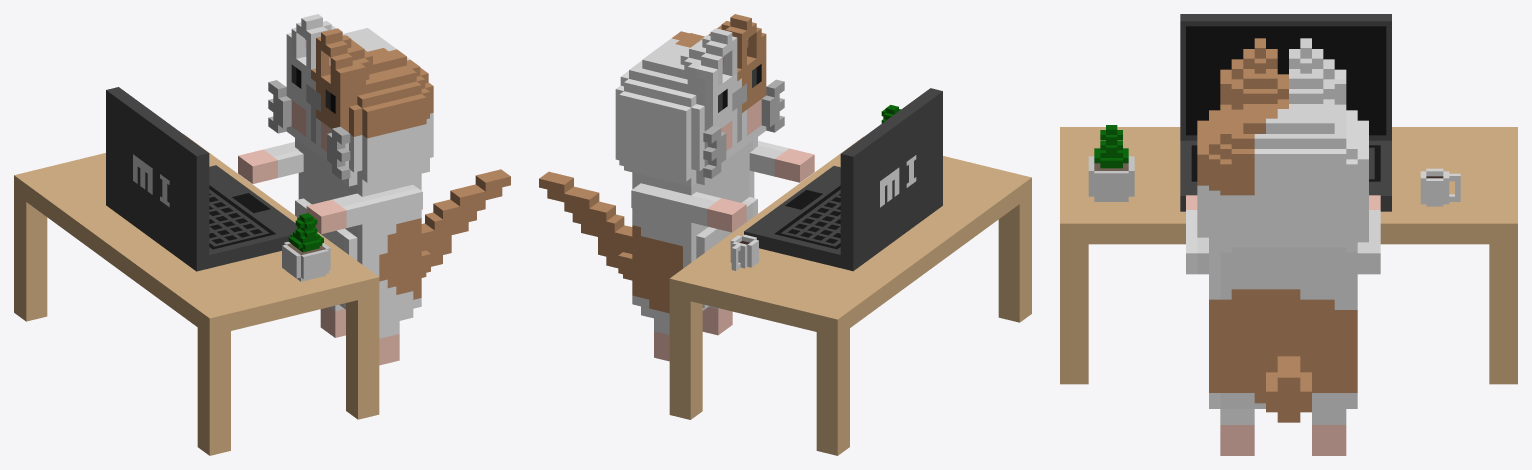
File: cat.gltf
3 renders of one model, left to right at view 1: azimuth 30°, elevation 25°; view 2: azimuth 150°, elevation 25°; view 3: azimuth 270°, elevation 25°, orthographic. The views are drawn at different scales.
Visible parts, largest first — view 1: Polygon_2, Polygon_1, _main_stol_, _main_stol__1, _noga_stol__1, _noga_stol__2, _noga_stol_, Polygon; view 2: Polygon_2, Polygon_1, _main_stol__1, _main_stol_, _noga_stol_, _noga_stol__3, _noga_stol__1, Polygon_3; view 3: Polygon_2, Polygon_1, _main_stol__1, _main_stol_, _noga_stol__3, _noga_stol__2, Polygon, Polygon_3.
Boxes of the visible parts, x1,y1,x2,y2 form: Polygon_2: (238, 14, 510, 365); Polygon_1: (106, 87, 297, 271); _main_stol_: (112, 205, 379, 335); _main_stol__1: (14, 134, 280, 264); _noga_stol__1: (197, 305, 230, 455); _noga_stol__2: (346, 268, 379, 419); _noga_stol_: (14, 170, 47, 321); Polygon: (282, 213, 330, 281); Polygon_2: (539, 14, 814, 361); Polygon_1: (744, 88, 942, 271); _main_stol__1: (669, 207, 934, 336); _main_stol_: (767, 142, 1031, 265); _noga_stol_: (816, 306, 849, 455); _noga_stol__3: (669, 270, 702, 419); _noga_stol__1: (998, 176, 1031, 322); Polygon_3: (730, 234, 758, 270); Polygon_2: (1186, 38, 1380, 455); Polygon_1: (1180, 14, 1391, 211); _main_stol__1: (1380, 127, 1517, 244); _main_stol_: (1060, 127, 1185, 244); _noga_stol__3: (1489, 211, 1517, 384); _noga_stol__2: (1060, 211, 1088, 384); Polygon: (1088, 125, 1134, 201); Polygon_3: (1420, 168, 1460, 206).
Size of the model in its own units: 930 by 740 by 800.
10 materials, 10 textured.
